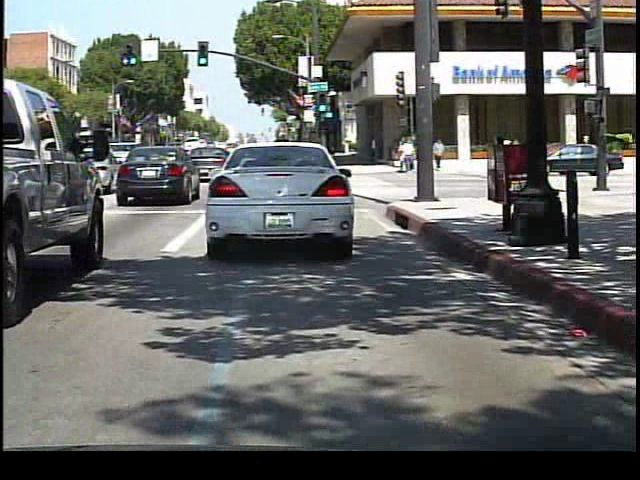person: (495, 134, 517, 174), (400, 136, 416, 177), (433, 135, 449, 171)
